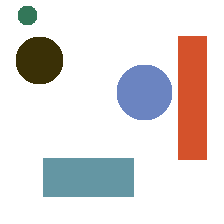circle: (117, 65, 171, 119), (16, 37, 62, 83), (18, 6, 36, 24)
rectangle: (178, 36, 206, 159), (43, 158, 133, 196)
